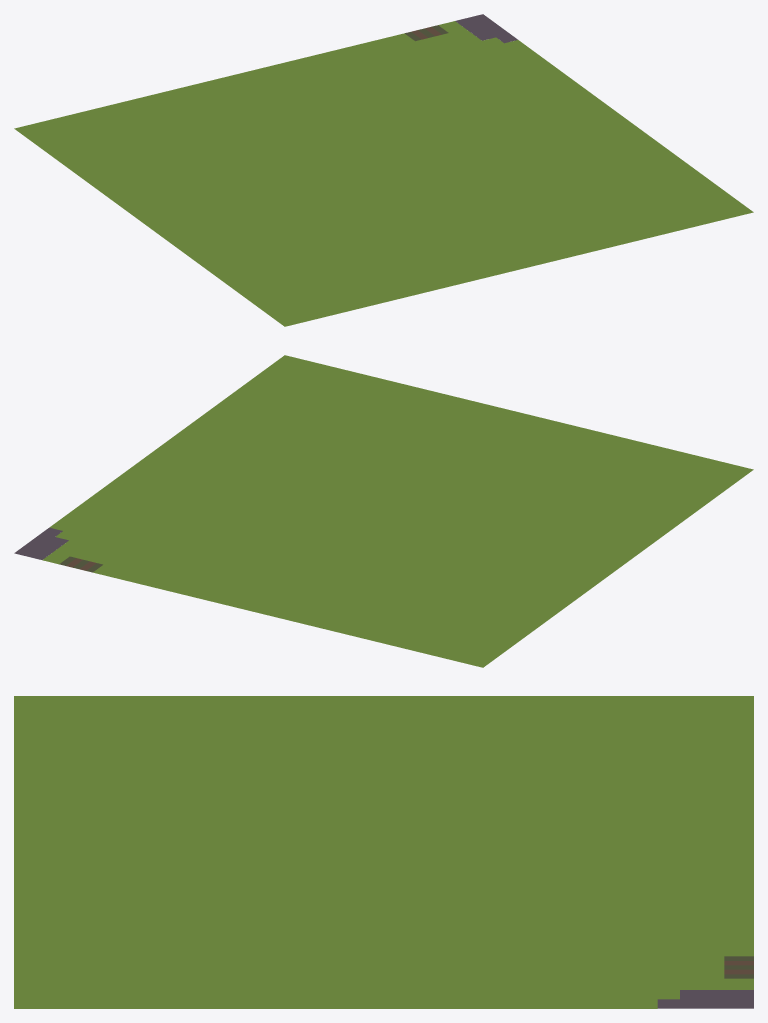
The model's file is cure-13-3.glb.
3 views of the same model, one above another, from view 1: azimuth 30°, elevation 25°; view 2: azimuth 150°, elevation 25°; view 3: azimuth 270°, elevation 25° (orthographic). The views are drawn at different scales.
Parts seen in each view (by area): view 1: cure-13-3; view 2: cure-13-3; view 3: cure-13-3.
Part boxes in pixels (<box>): cure-13-3: <box>14,14,753,326</box>; cure-13-3: <box>14,355,753,667</box>; cure-13-3: <box>14,696,753,1008</box>.
Bounding box in the file's own units: 100 × 0.008 × 100.
